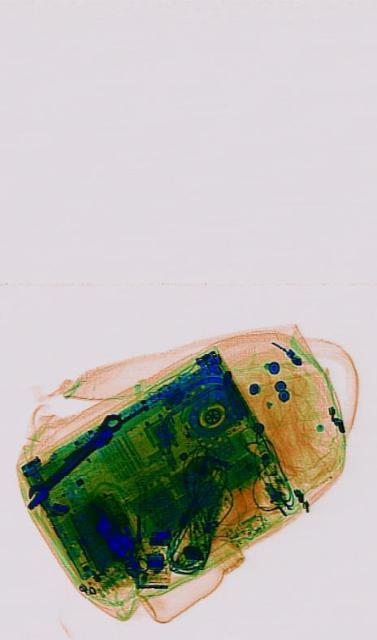Scissors: (124, 530, 148, 574)
Wrench: (21, 402, 124, 514)
